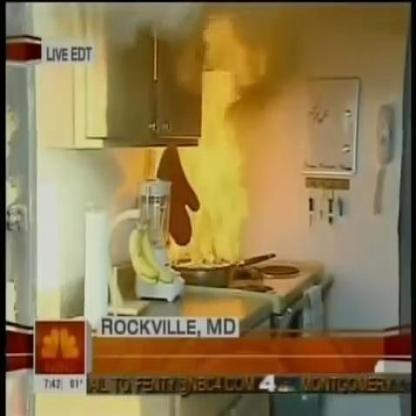fire: (154, 12, 272, 269)
